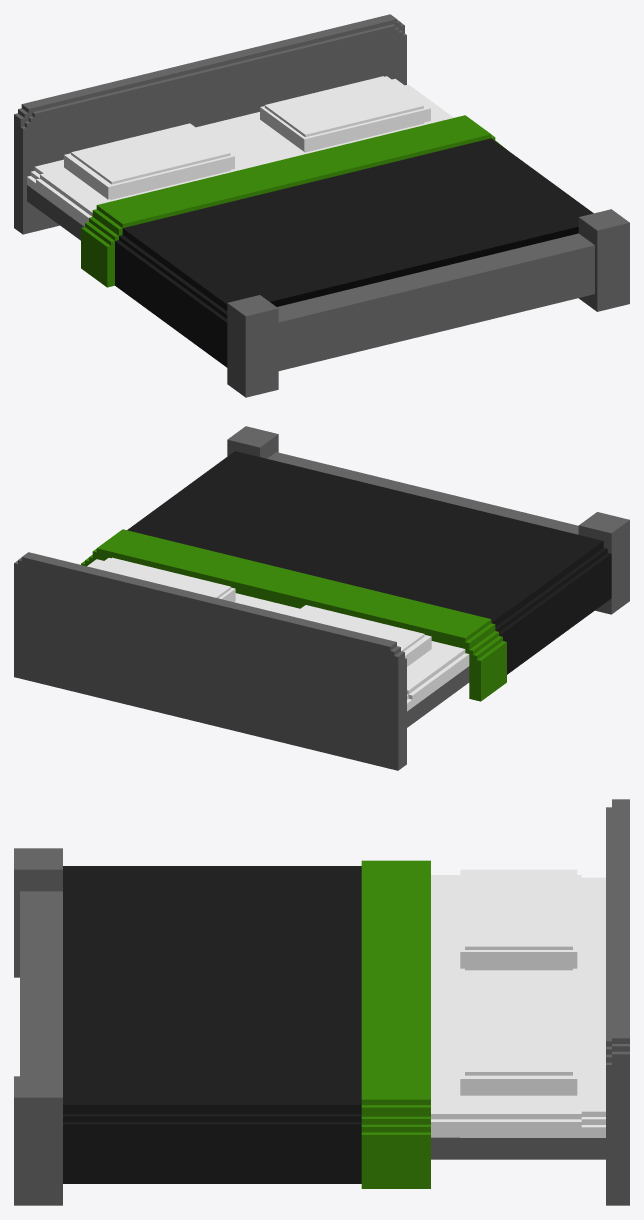
The model's file is King sized bed v2.fbx.
3 renders of one model, top to bottom at view 1: azimuth 30°, elevation 25°; view 2: azimuth 150°, elevation 25°; view 3: azimuth 270°, elevation 25°, orthographic. The views are drawn at different scales.
Visible parts, largest first — view 1: king sized bed; view 2: king sized bed; view 3: king sized bed.
Boxes of the visible parts, x1=… form: king sized bed: x1=14, y1=14, x2=629, y2=397; king sized bed: x1=14, y1=426, x2=629, y2=770; king sized bed: x1=14, y1=799, x2=629, y2=1205.
Bounding box in the file's own units: 1.98 × 0.5769 × 1.99.
